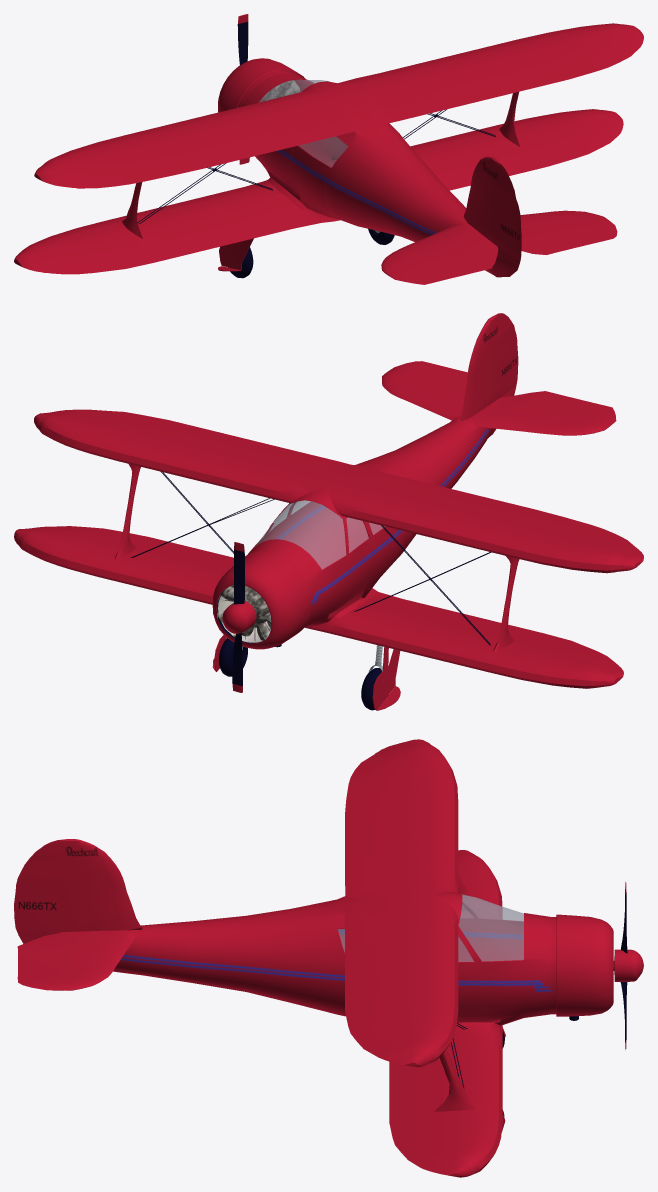
The model's file is Beech_Model-17_aircraft_unrigged_3.2.glb.
3 views of the same model, one above another, from view 1: azimuth 30°, elevation 25°; view 2: azimuth 150°, elevation 25°; view 3: azimuth 270°, elevation 25° (orthographic). The views are drawn at different scales.
Parts seen in each view (by area): view 1: Beech17aircraft, Beech_Model-17.001; view 2: Beech17aircraft, Beech_Model-17.001; view 3: Beech17aircraft, Beech_Model-17.001.
Boxes of the visible parts, box(x1,y1,x2,y2) form: Beech17aircraft: box(14, 23, 643, 284); Beech_Model-17.001: box(237, 14, 249, 164); Beech17aircraft: box(14, 313, 643, 710); Beech_Model-17.001: box(222, 542, 256, 692); Beech17aircraft: box(14, 739, 613, 1177); Beech_Model-17.001: box(613, 881, 643, 1049).
Bounding box in the file's own units: 9.8 × 3.71 × 8.1.
Materials: 1 (1 with a texture image).
